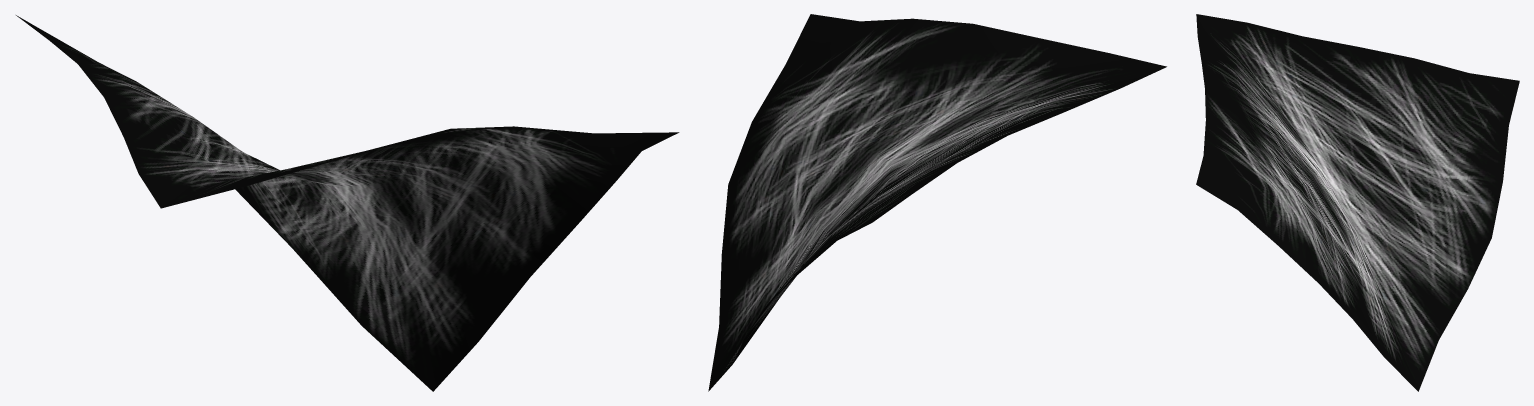
The model's file is SWORDLIGHT20_PS-AREA01_CORNERWEB01.fbx.
3 renders of one model, left to right at view 1: azimuth 30°, elevation 25°; view 2: azimuth 150°, elevation 25°; view 3: azimuth 270°, elevation 25°, orthographic. The views are drawn at different scales.
Parts seen in each view (by area): view 1: SWORDLIGHT20_PS-AREA01_CORNERWEB01; view 2: SWORDLIGHT20_PS-AREA01_CORNERWEB01; view 3: SWORDLIGHT20_PS-AREA01_CORNERWEB01.
Part boxes in pixels (x1,y1,x2,y2): SWORDLIGHT20_PS-AREA01_CORNERWEB01: (16, 15, 679, 391); SWORDLIGHT20_PS-AREA01_CORNERWEB01: (708, 14, 1166, 391); SWORDLIGHT20_PS-AREA01_CORNERWEB01: (1196, 14, 1519, 391).
Bounding box in the file's own units: 80500 × 64371 × 75697.
1 material, 1 textured.
